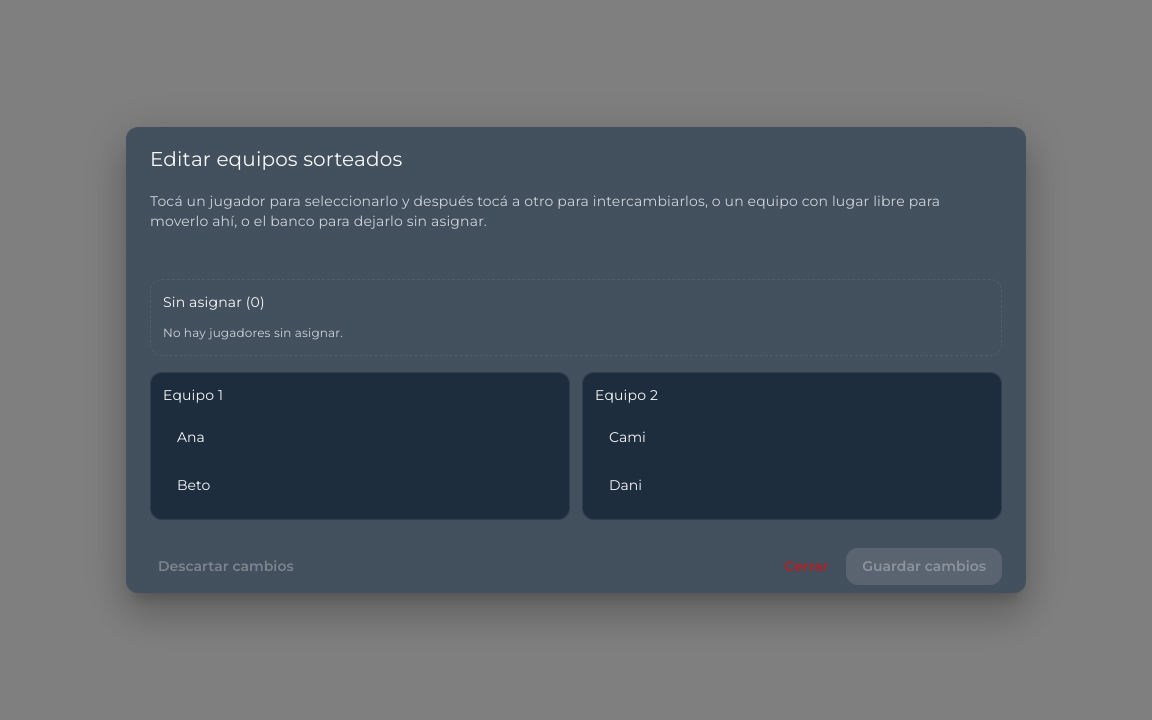
Scenario: TeamRosterEditor › tocar un jugador lo deja seleccionado
This screenshot has width=1152, height=720.
Step 1. Click the button "Ana" → (191, 437), box [163,415,557,459]
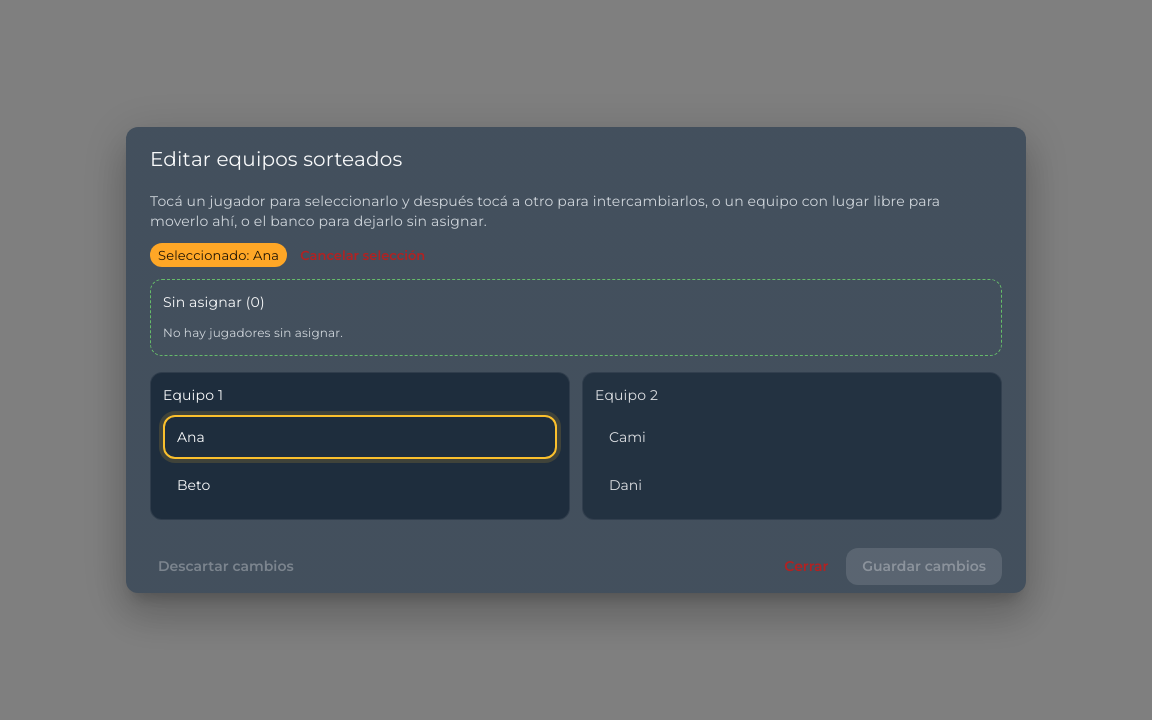
expect the text "Seleccionado: Ana" is shown: met, box [150,246,287,265]
